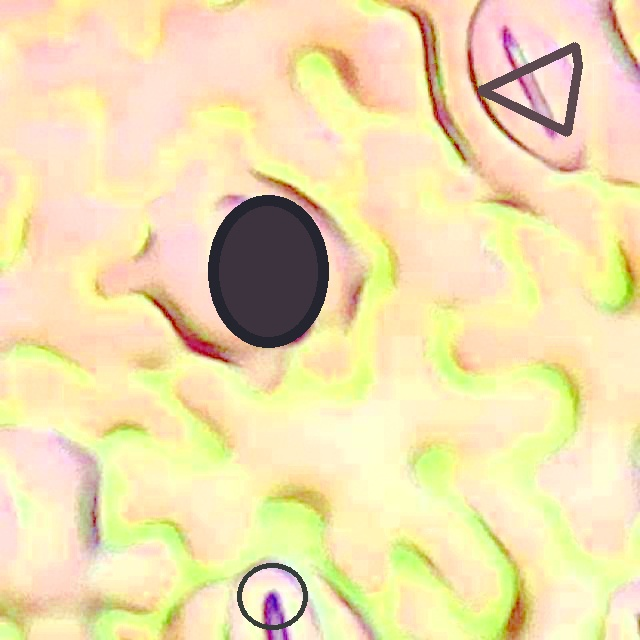open: (208, 195, 328, 347), (477, 42, 582, 136), (237, 563, 308, 630)
